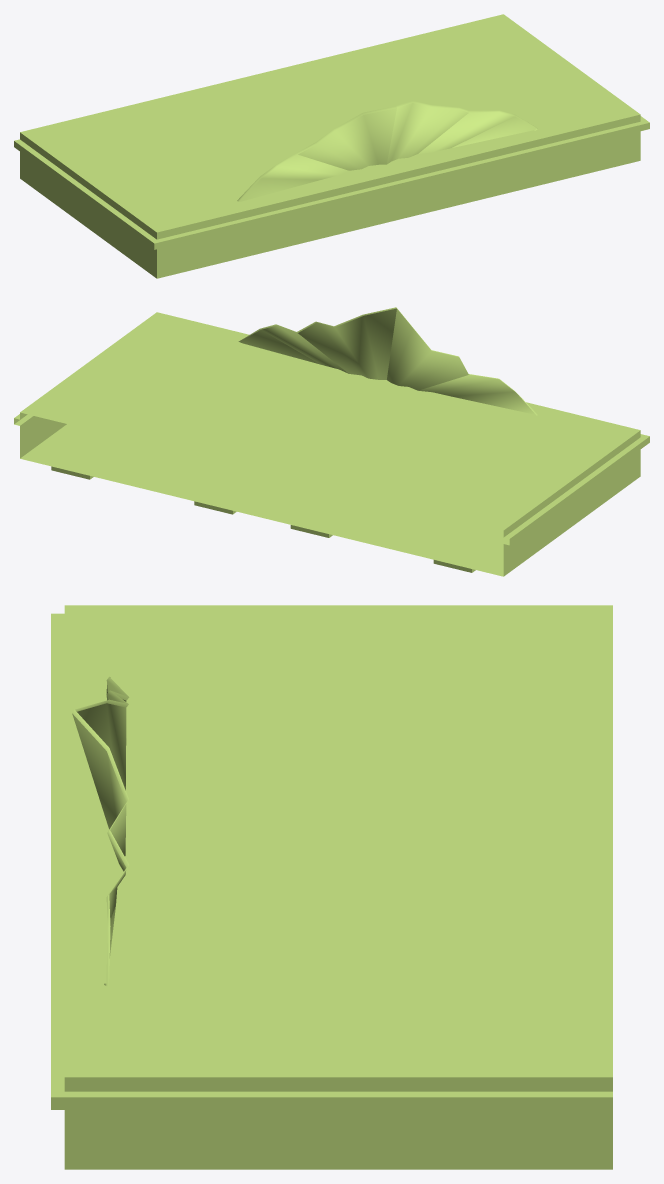
The model's file is Empty_Denzel_Roof.fbx.
The picture shows the model from 3 angles, top to bottom: view 1: azimuth 30°, elevation 25°; view 2: azimuth 150°, elevation 25°; view 3: azimuth 270°, elevation 25°; orthographic projection. The views are drawn at different scales.
Parts seen in each view (by area): view 1: MESH_Roof_Ornament; view 2: MESH_Roof_Ornament; view 3: MESH_Roof_Ornament.
Boxes of the visible parts, x1=… form: MESH_Roof_Ornament: x1=14, y1=14, x2=649, y2=278; MESH_Roof_Ornament: x1=14, y1=307, x2=649, y2=576; MESH_Roof_Ornament: x1=51, y1=605, x2=612, y2=1169.
Size of the model in its own units: 381 by 85.12 by 187.
